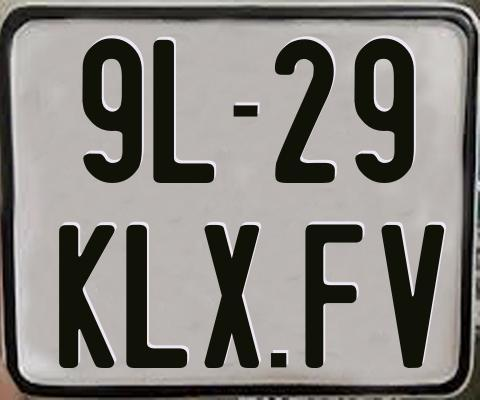2: (274, 38, 334, 183)
9: (80, 35, 144, 182), (351, 38, 412, 185)
F: (302, 222, 365, 368)
K: (56, 223, 115, 370)
L: (124, 222, 191, 371), (152, 39, 217, 184)
V: (380, 224, 445, 368)
X: (203, 224, 260, 372)
